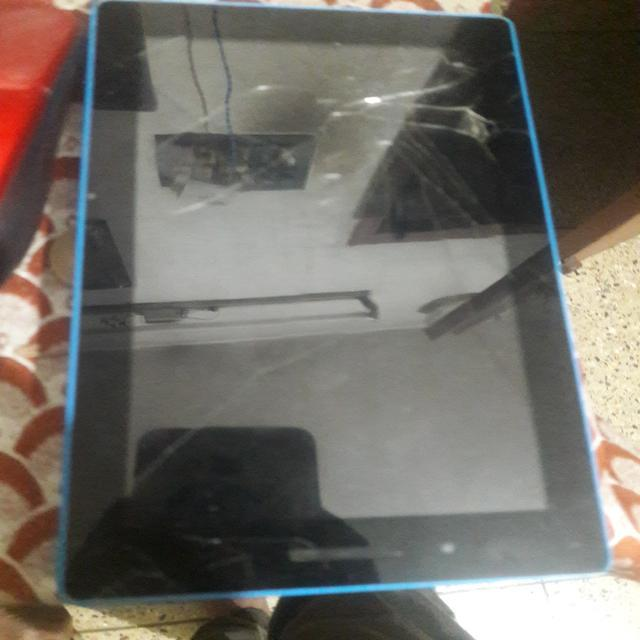screen crack: (76, 5, 517, 253), (68, 338, 368, 592)
